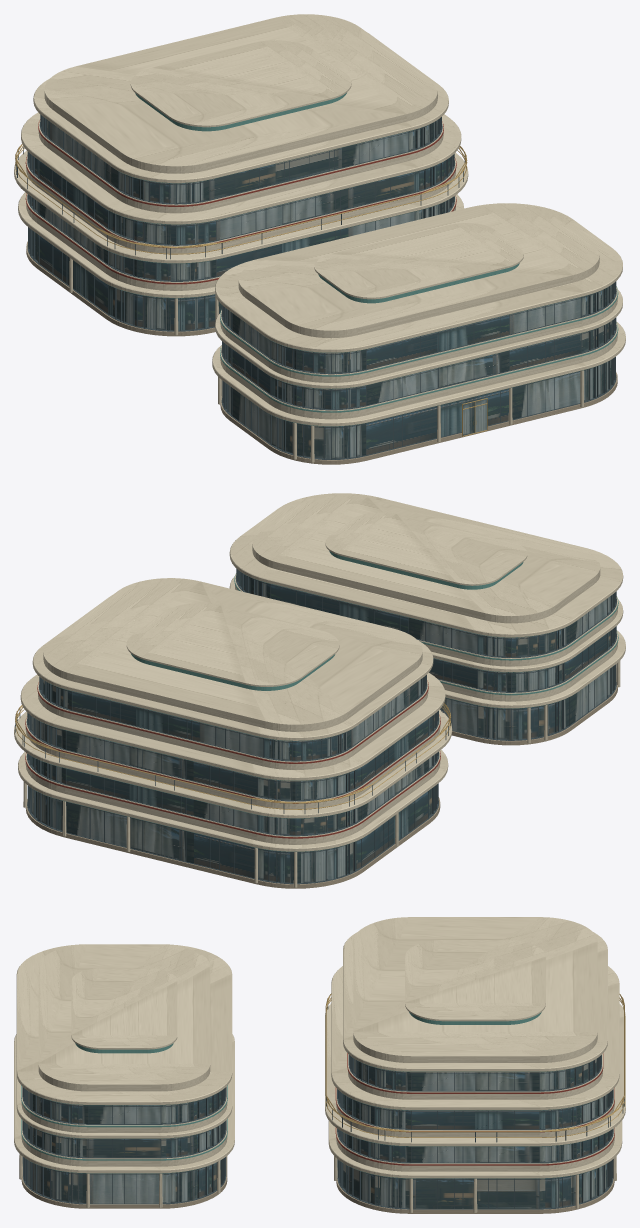
File: CourtMarket.fbx
The picture shows the model from 3 angles, top to bottom: view 1: azimuth 30°, elevation 25°; view 2: azimuth 150°, elevation 25°; view 3: azimuth 270°, elevation 25°; orthographic projection. The views are drawn at different scales.
Visible parts, largest first — view 1: CourtMarket Close, CourtMarket Horizon, CourtMarket Street; view 2: CourtMarket Close, CourtMarket Horizon, CourtMarket Street; view 3: CourtMarket Close, CourtMarket Horizon, CourtMarket Street.
Part boxes in pixels (left/top/right/bottom): CourtMarket Close: left=14, top=14, right=625, bottom=464; CourtMarket Horizon: left=15, top=14, right=625, bottom=459; CourtMarket Street: left=14, top=15, right=625, bottom=464; CourtMarket Close: left=14, top=493, right=625, bottom=888; CourtMarket Horizon: left=15, top=494, right=624, bottom=883; CourtMarket Street: left=14, top=493, right=625, bottom=888; CourtMarket Close: left=14, top=917, right=625, bottom=1213; CourtMarket Horizon: left=14, top=917, right=624, bottom=1212; CourtMarket Street: left=14, top=917, right=625, bottom=1213.
Bounding box in the file's own units: 3257 × 1435 × 5057.
